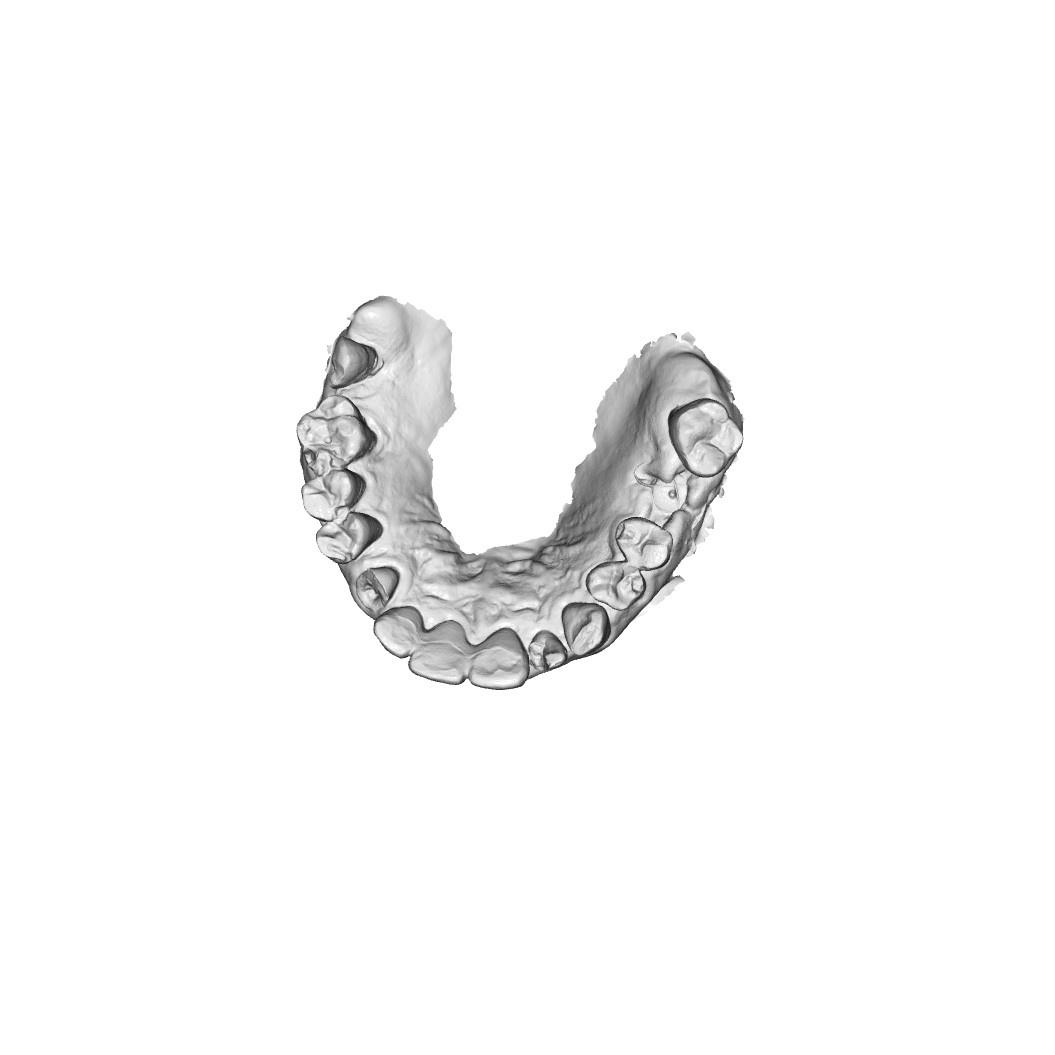canine: (556, 601, 613, 658), (351, 563, 403, 618)
implant: (650, 473, 694, 512)
incisor: (410, 616, 470, 689), (466, 626, 531, 693), (370, 605, 426, 660)
molar: (295, 392, 378, 471), (669, 396, 747, 472)
premolar: (313, 510, 384, 566), (297, 469, 369, 521), (616, 516, 674, 572), (586, 563, 647, 610)
